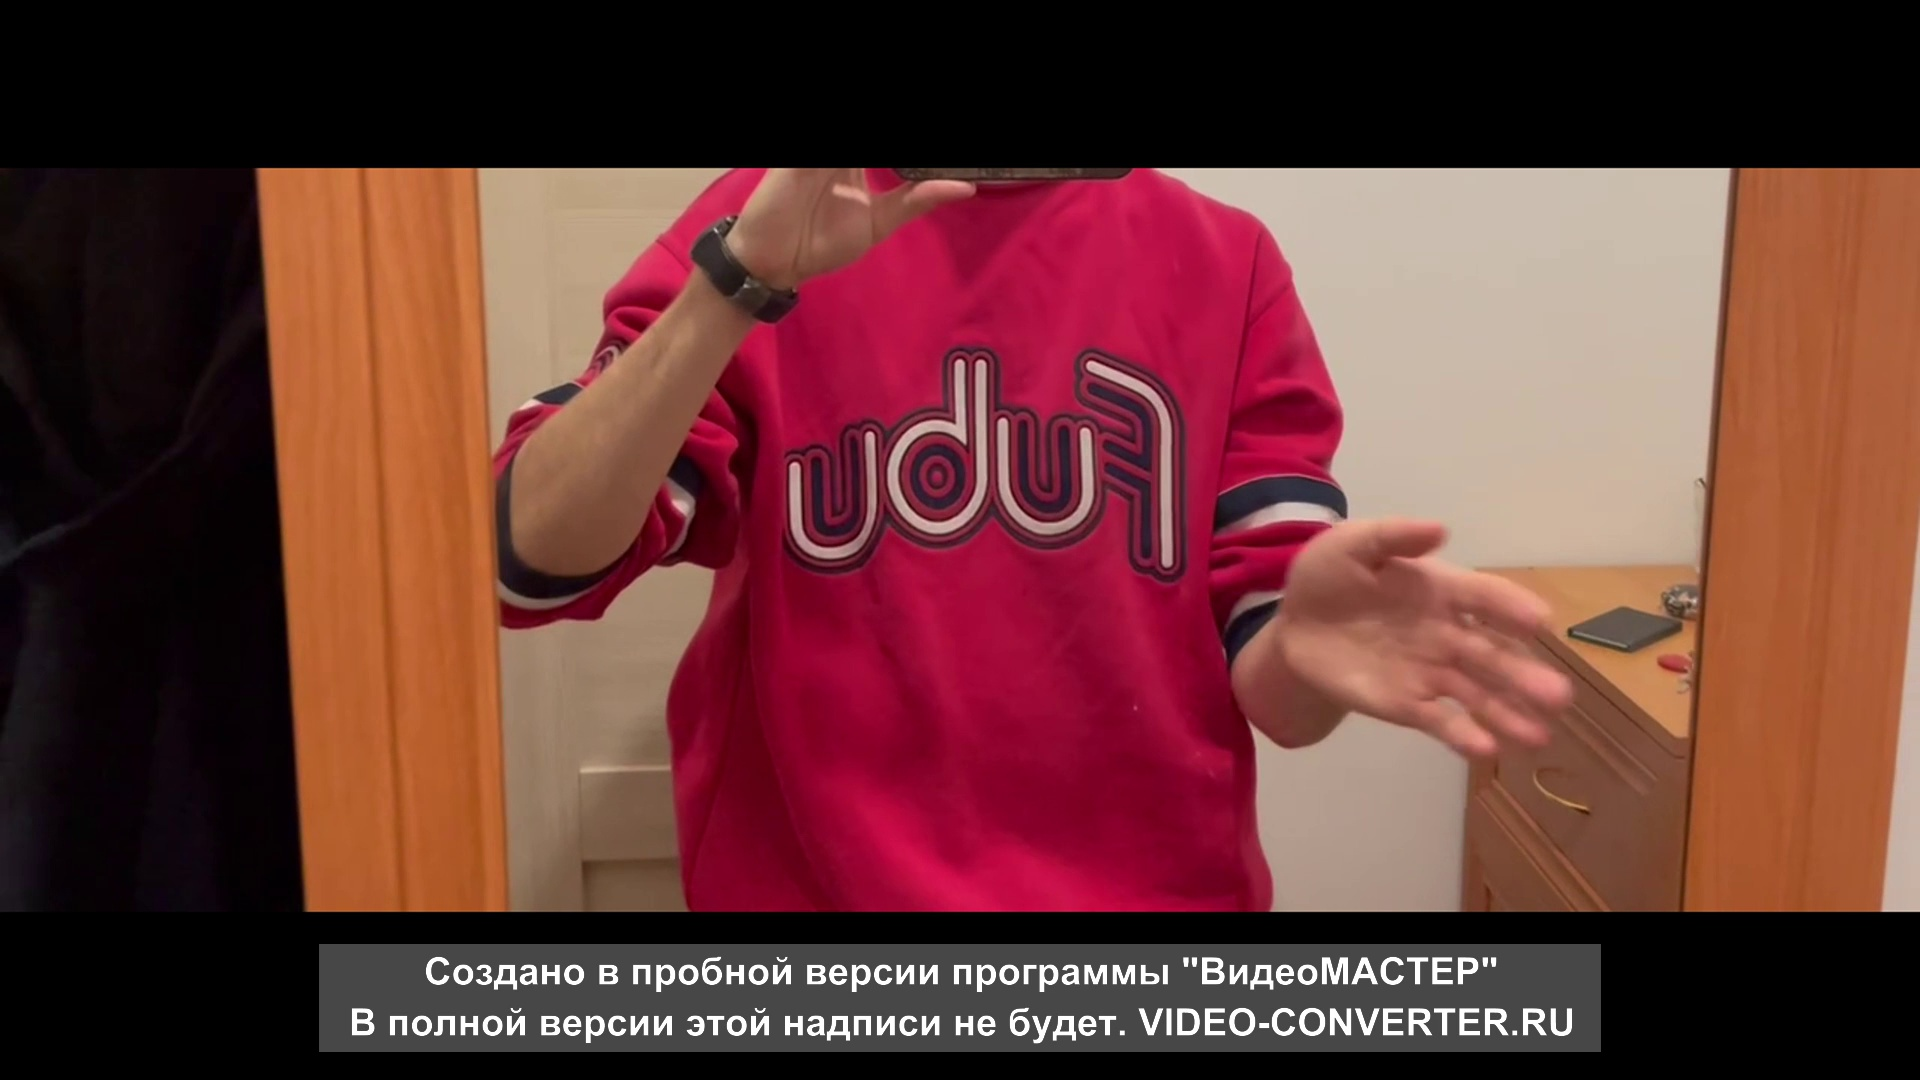Ладонь: (1283, 514, 1572, 761)
